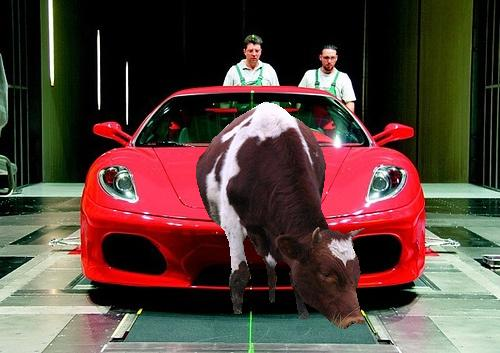tampered: (197, 103, 365, 329)
